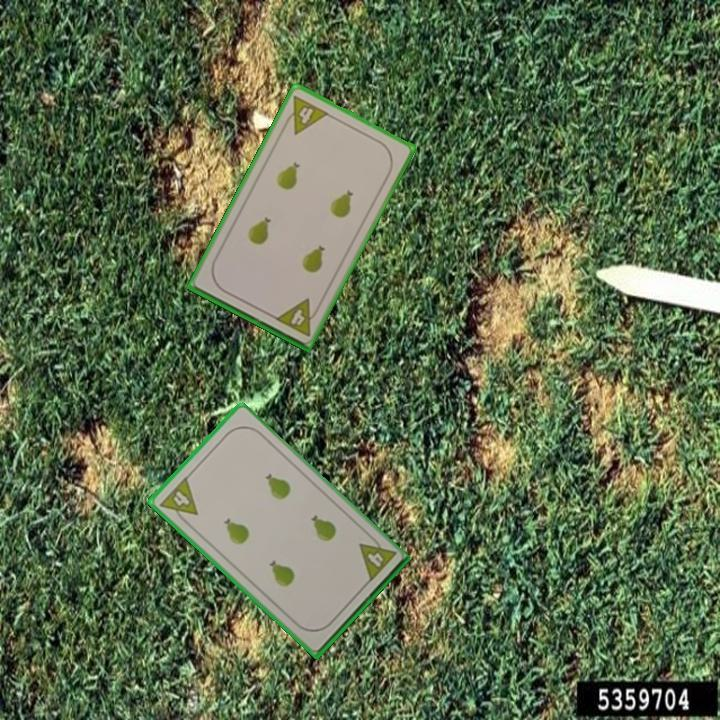4p: (156, 473, 201, 528), (279, 91, 332, 137), (355, 531, 399, 585), (271, 295, 323, 339)
